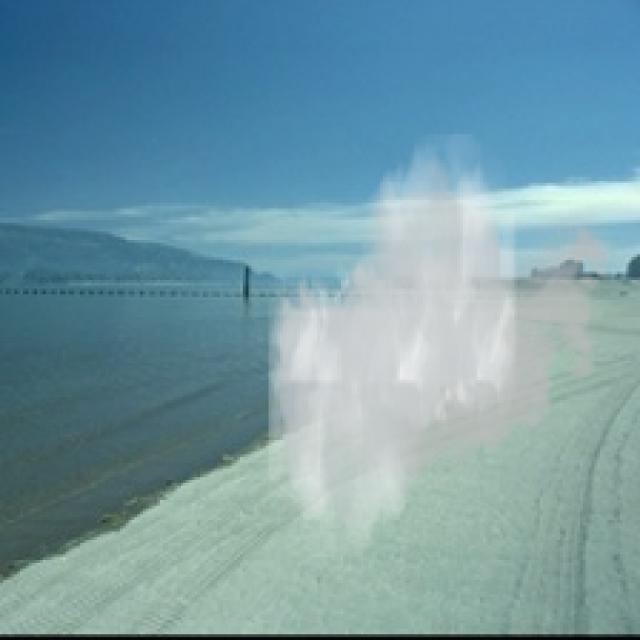smoke: (269, 134, 620, 557)
